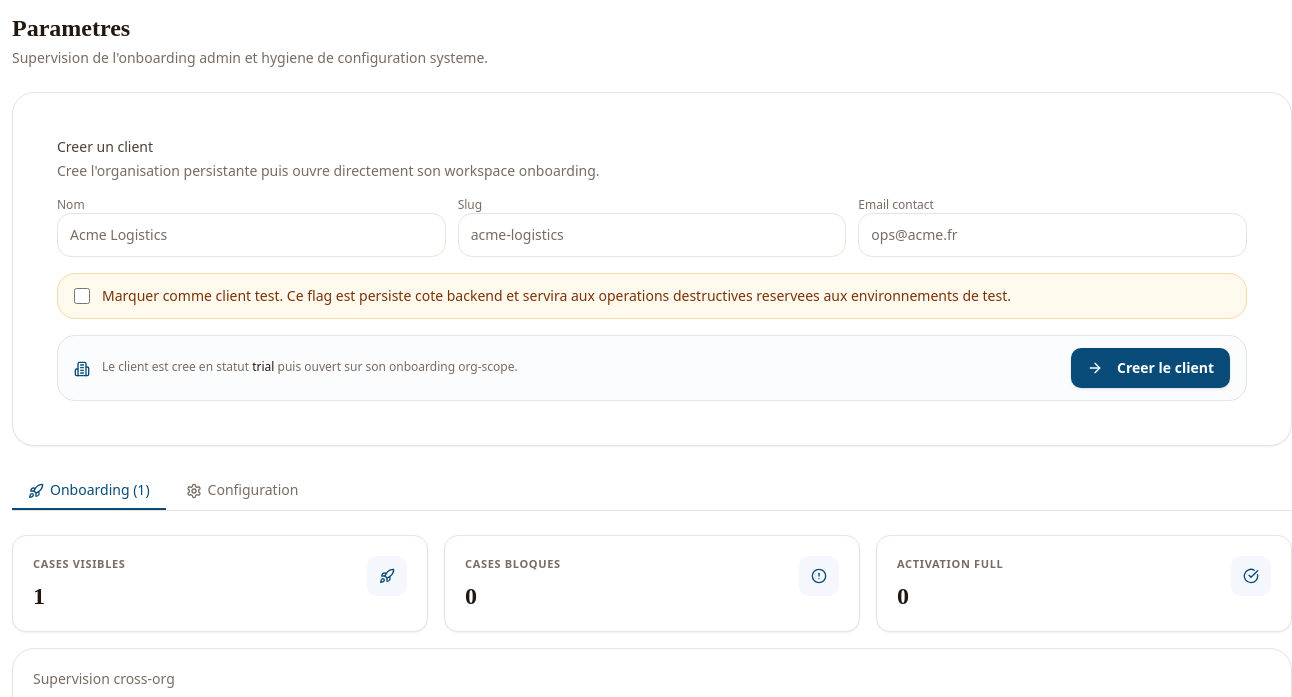
Test: restructured admin pages › ParametresPage config section shows error
What coordinates should you click on to do the following:
click the button "Configuration"
I would click on:
 (242, 490)
Its box is [170,470,314,510].
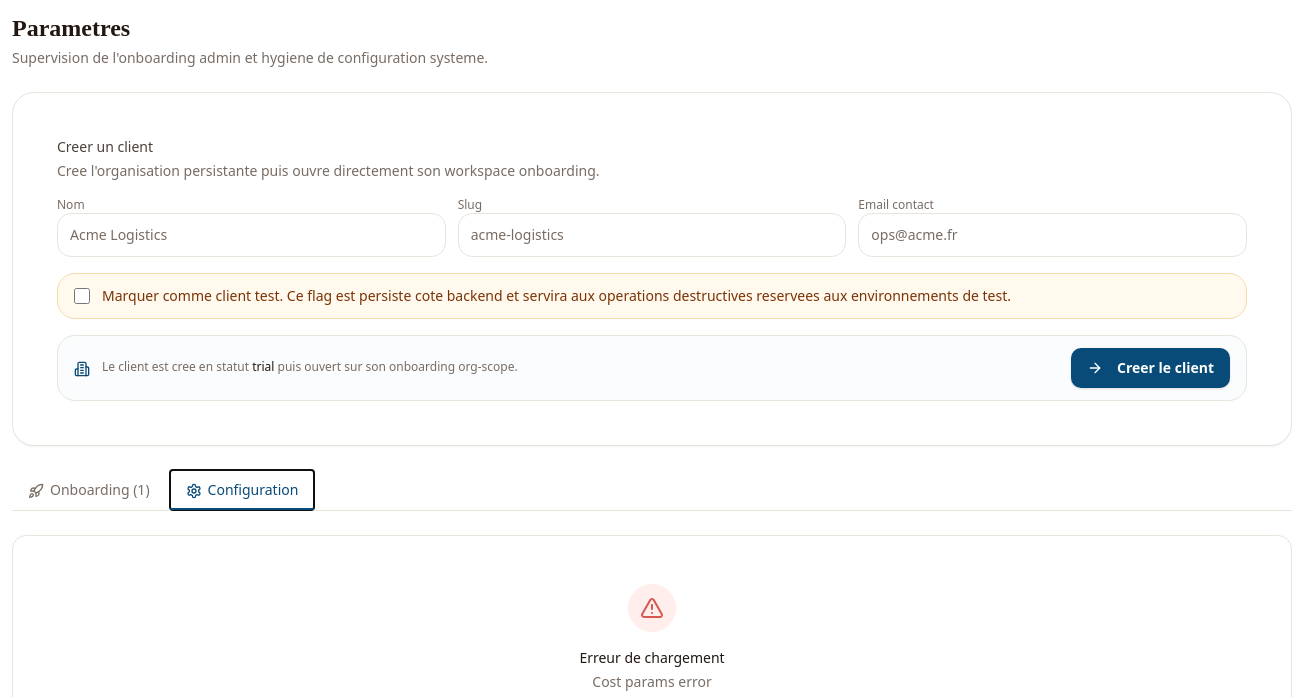
Expected: the text "Cost params error" is shown, [592,672,712,692]
